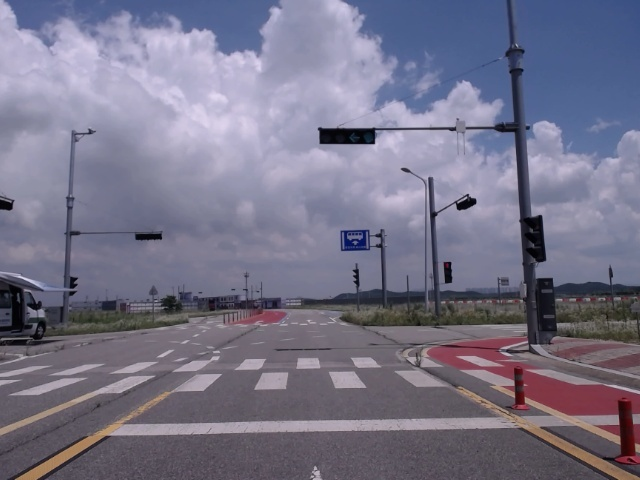all_green_4: (318, 129, 378, 143)
